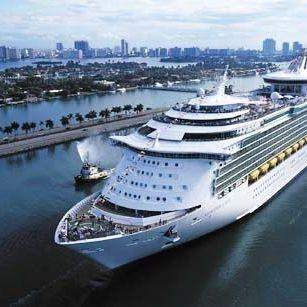otherboat: (74, 159, 114, 185)
youlun: (58, 46, 307, 266)
